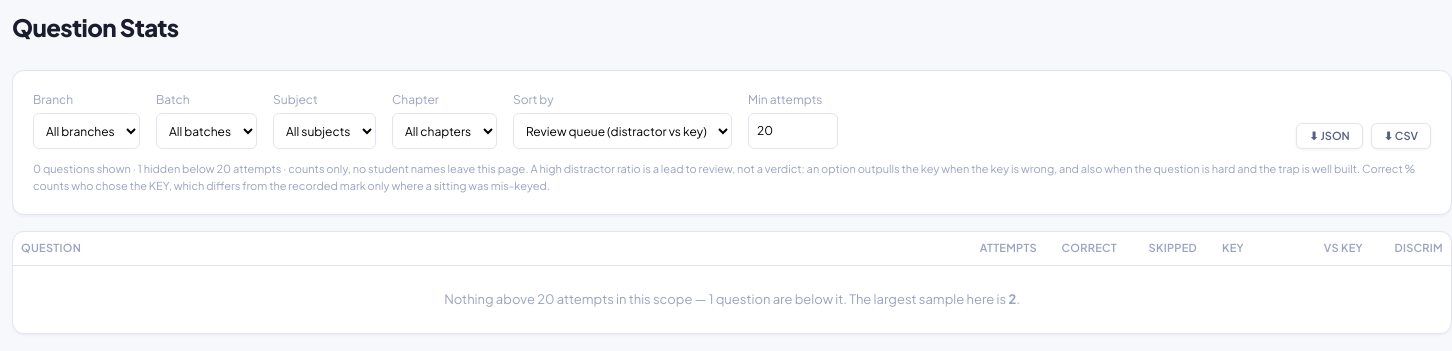
Scenario: ItemStatsPage — cohort filter › says whose numbers are on screen
Replace the text in the number field labelled "Min attempts" with "1" at (793, 131), box [748,113,838,149]
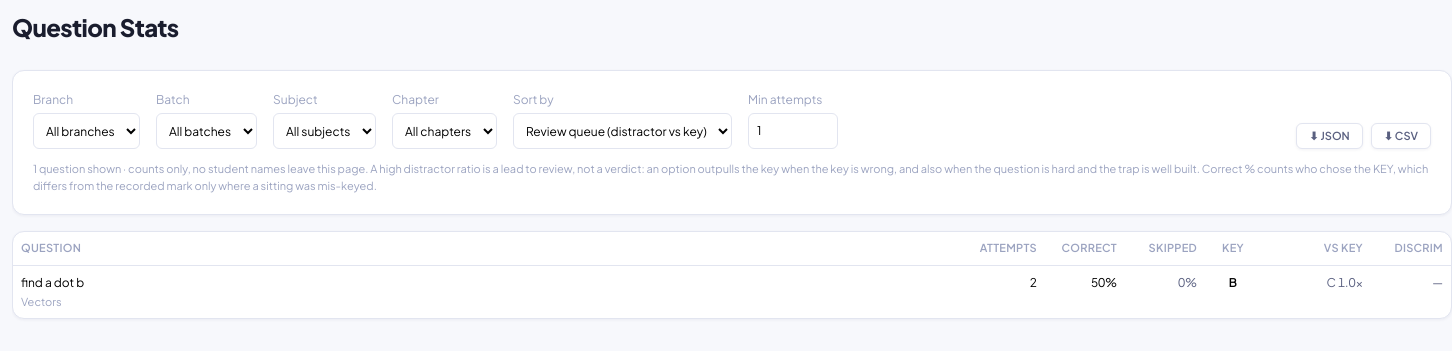
Select "11B" in the dropdown labelled "Batch" at (206, 131), box [156,113,257,149]
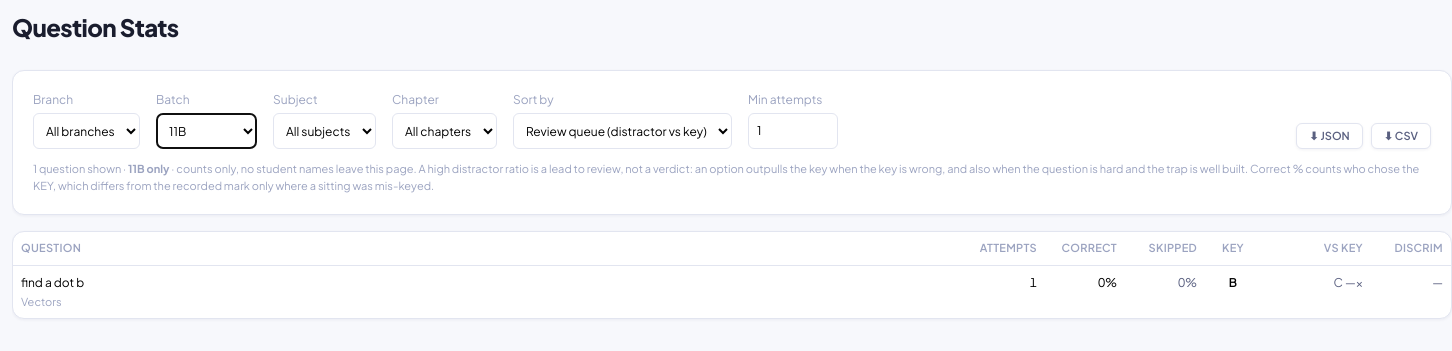
Expected: the text "11B only" is shown, [128,162,169,175]
